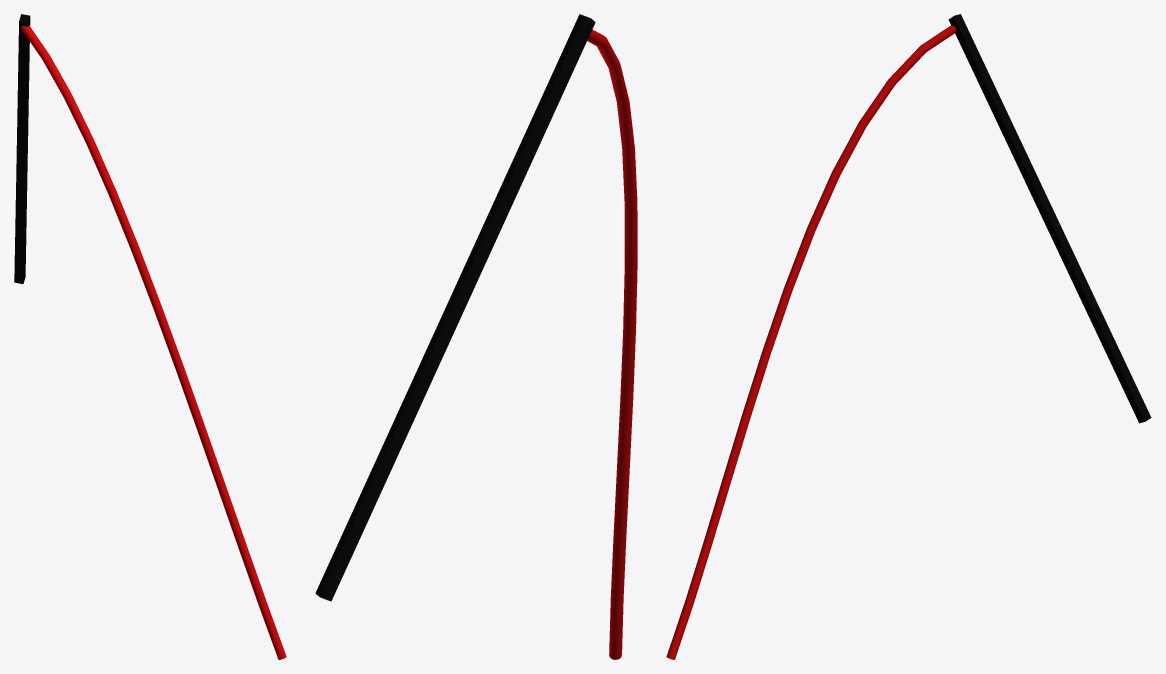
The model's file is caña.fbx.
The picture shows the model from 3 angles, left to right: view 1: azimuth 30°, elevation 25°; view 2: azimuth 150°, elevation 25°; view 3: azimuth 270°, elevation 25°; orthographic projection. The views are drawn at different scales.
Parts seen in each view (by area): view 1: Cylinder.017; view 2: Cylinder.017; view 3: Cylinder.017.
Boxes of the visible parts, x1,y1,x2,y2 form: Cylinder.017: (14, 14, 286, 659); Cylinder.017: (315, 14, 637, 659); Cylinder.017: (666, 14, 1151, 659).
Bounding box in the file's own units: 0.673 × 2.86 × 2.14.
